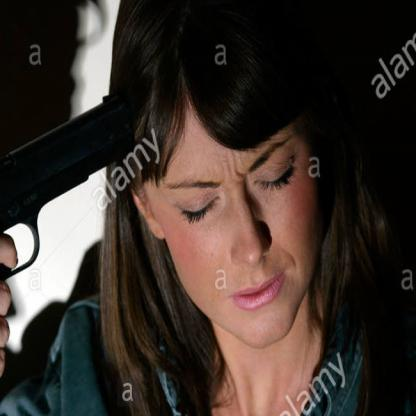gun: (0, 76, 140, 360)
